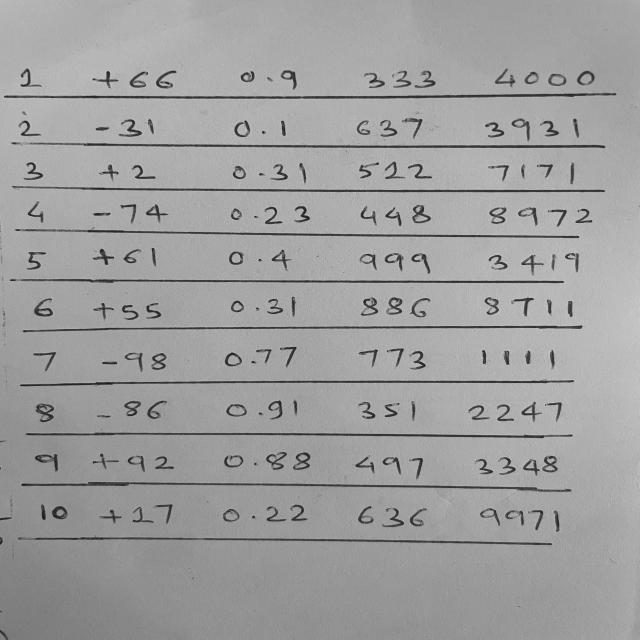Number: (485, 204, 594, 227), (482, 116, 582, 141), (490, 66, 598, 89), (485, 250, 583, 275), (478, 505, 562, 534), (480, 294, 577, 319), (466, 400, 566, 424), (485, 162, 579, 186), (89, 68, 179, 92), (352, 452, 424, 482), (474, 347, 560, 372), (218, 344, 299, 370), (354, 502, 429, 530), (91, 200, 168, 227), (220, 450, 314, 472), (89, 450, 177, 473), (224, 203, 311, 226), (223, 397, 302, 422), (356, 251, 434, 276), (226, 161, 310, 184), (218, 503, 310, 524), (96, 502, 176, 526), (355, 346, 428, 372), (90, 398, 170, 421), (472, 455, 559, 476), (99, 349, 170, 374), (357, 204, 434, 227), (357, 296, 433, 319), (360, 68, 439, 90), (353, 116, 425, 140), (91, 301, 165, 324), (226, 296, 299, 319), (356, 161, 433, 182), (225, 248, 292, 272), (235, 68, 300, 92), (88, 247, 161, 268), (92, 118, 160, 140), (354, 399, 419, 422), (230, 116, 290, 140), (95, 162, 156, 184), (11, 64, 44, 94), (21, 198, 47, 225), (37, 503, 71, 523), (30, 350, 58, 374), (31, 453, 63, 474), (29, 296, 58, 319), (21, 250, 50, 272), (19, 160, 47, 182), (33, 401, 58, 425), (14, 118, 43, 138)
